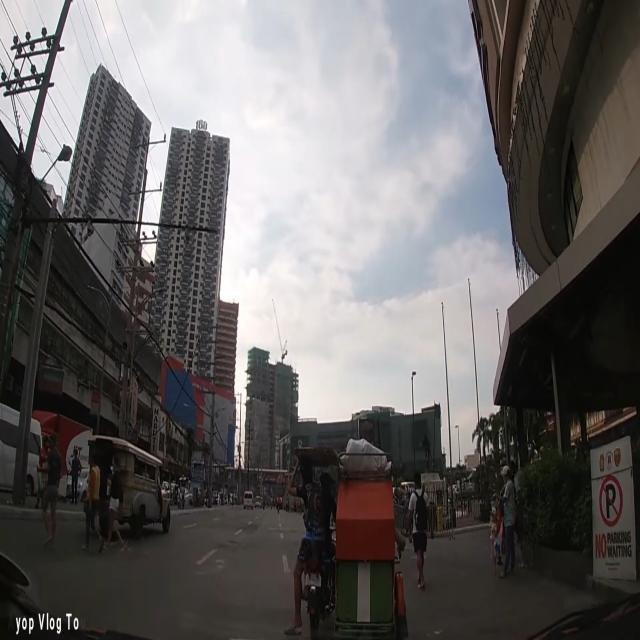car: (0, 403, 43, 498), (66, 466, 90, 502)
jeepney: (88, 434, 171, 542)
tricycle: (284, 437, 409, 640)
truck: (26, 410, 94, 494)
